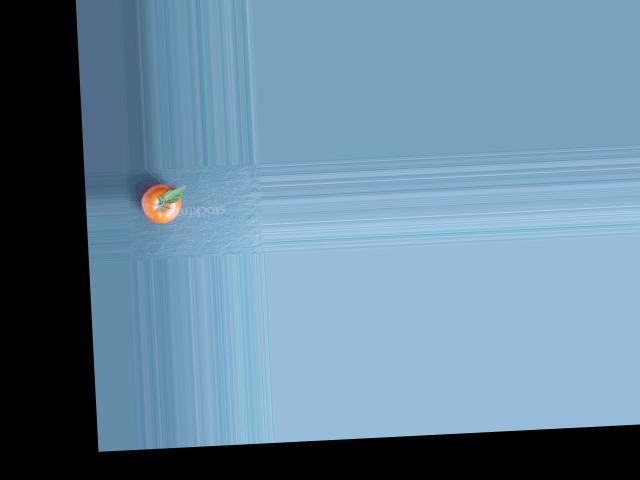tomato: (140, 183, 182, 223)
